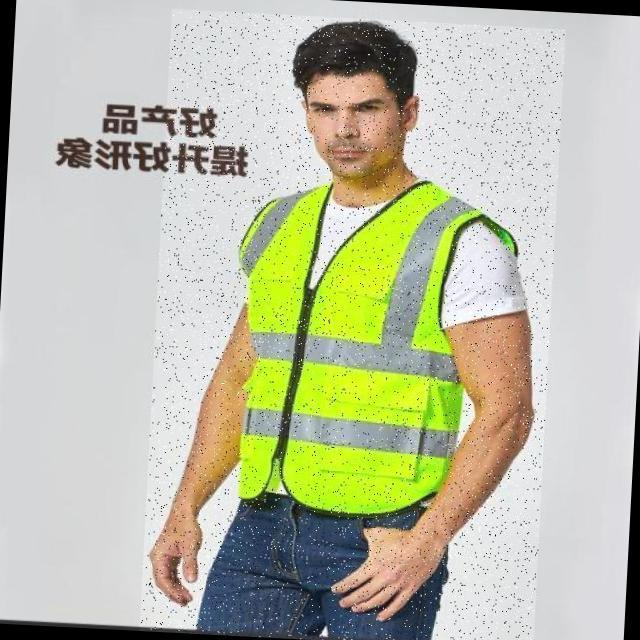Person: (121, 19, 546, 640)
Safety Vest: (216, 174, 511, 520)
bare-arms: (339, 522, 452, 624), (140, 497, 218, 613)
no-helmet: (278, 18, 427, 91)
